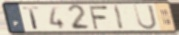2: (67, 4, 92, 32)
4: (48, 5, 67, 30)
F: (87, 5, 110, 31)
I: (113, 4, 126, 31)
T: (22, 6, 42, 30)
U: (132, 4, 159, 31)
